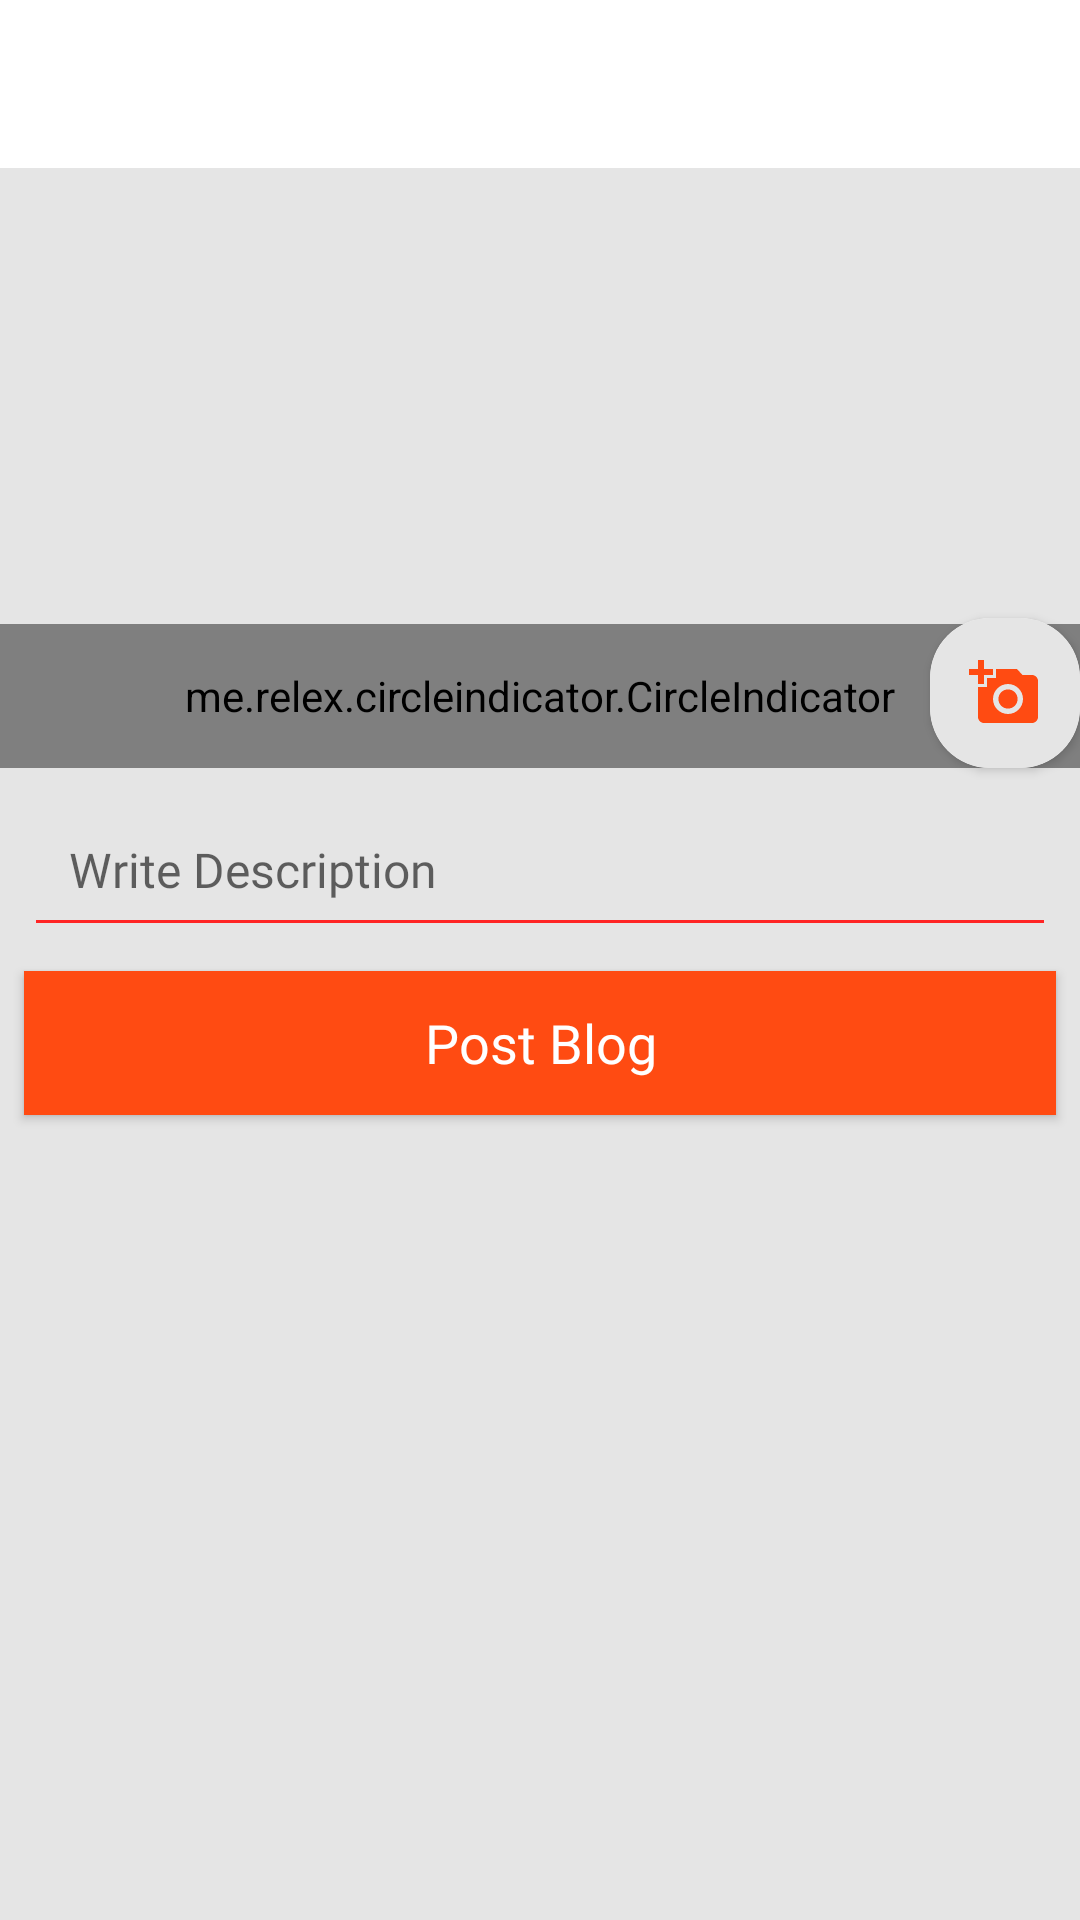

Named icons in this screenshot (1080*1920) and their bounding boxes, BBox(x1, y1, x2, y2):
add photo: BBox(969, 624, 1080, 723)
